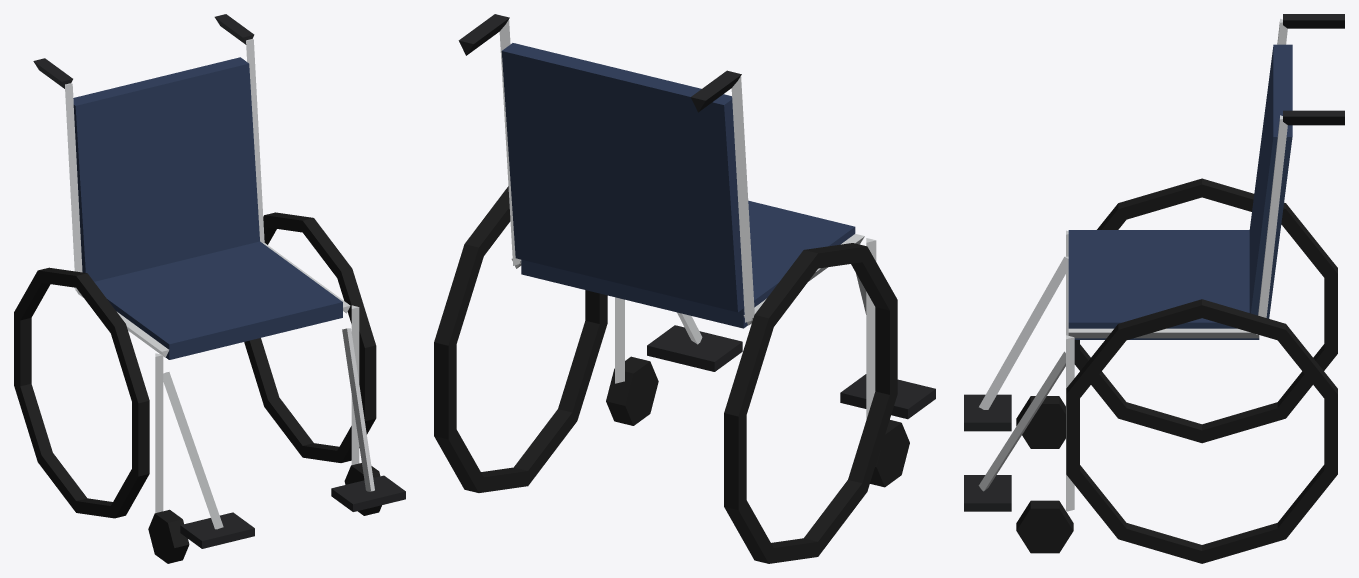
File: wheelchair.glb
The picture shows the model from 3 angles, left to right: view 1: azimuth 30°, elevation 25°; view 2: azimuth 150°, elevation 25°; view 3: azimuth 270°, elevation 25°; orthographic projection. The views are drawn at different scales.
Parts seen in each view (by area): view 1: wheelchair; view 2: wheelchair; view 3: wheelchair.
Boxes of the visible parts, left/top/right/bottom form: wheelchair: left=14, top=14, right=405, bottom=563; wheelchair: left=434, top=14, right=935, bottom=563; wheelchair: left=964, top=14, right=1344, bottom=563.
Size of the model in its own units: 0.63 by 1.01 by 0.8.
1 material, 1 textured.
